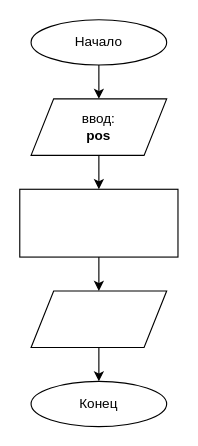
Image size: 198x446. Some labels were removed from this diagram. The shapes that lost their labels are listed below. From the top down, each one's centre as x and y in pixels, then its label:
At (x=98, y=222): "letter = буква алфавита с порядковым номером pos".
At (x=98, y=318): "вывод: letter".
